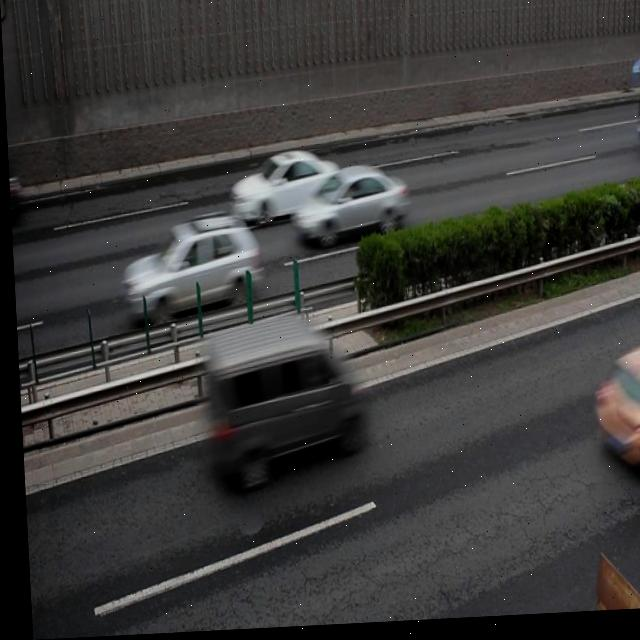car: (117, 215, 259, 325), (285, 166, 408, 252), (223, 149, 338, 229), (584, 360, 640, 477)
truck: (198, 310, 363, 487)
